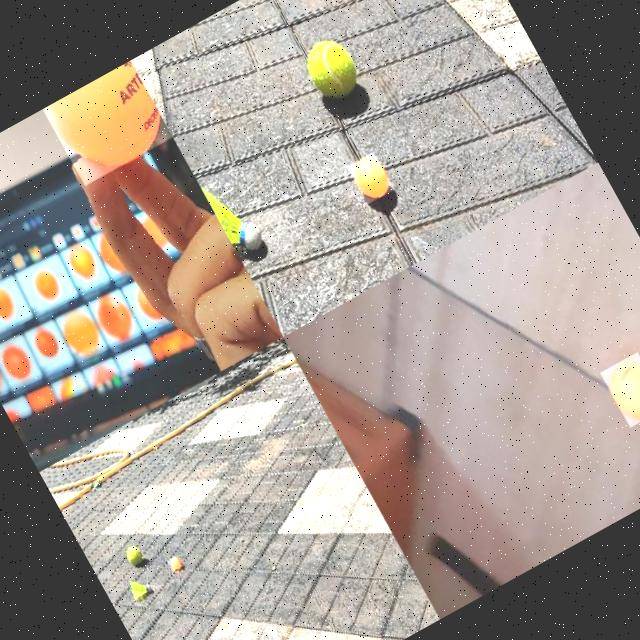ping-pong-ball: (40, 61, 172, 188), (598, 351, 640, 428), (346, 151, 395, 205), (166, 555, 182, 572)
